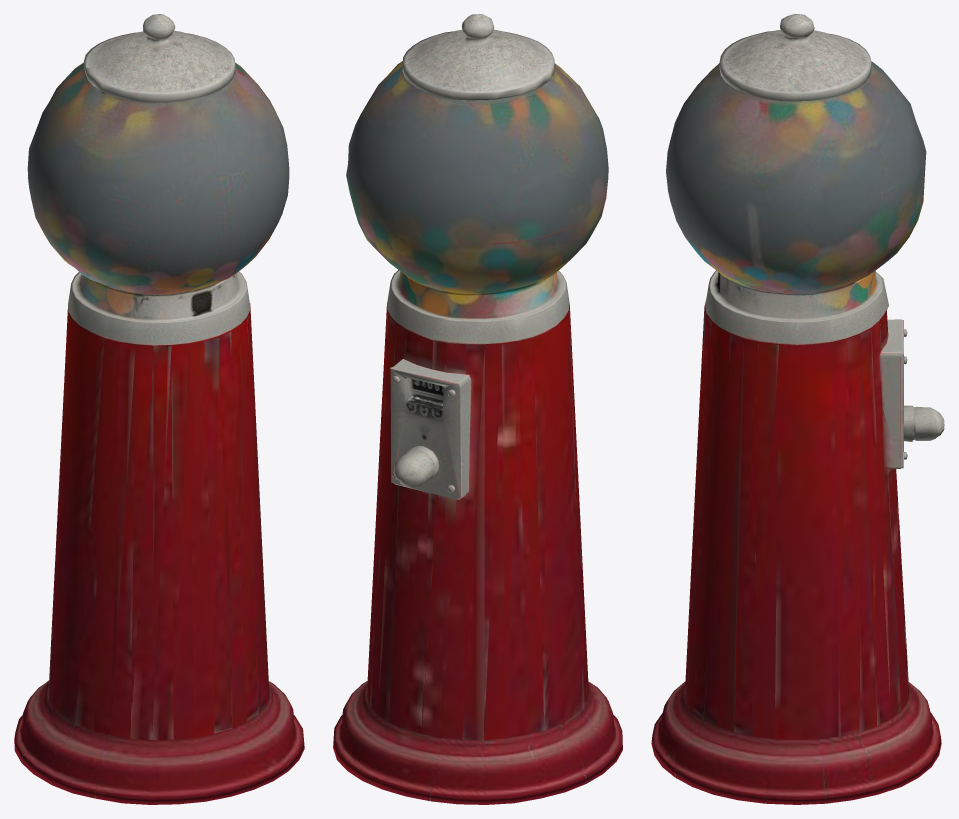
The model's file is office-gumball-machine.glb.
3 views of the same model, side by side, from view 1: azimuth 30°, elevation 25°; view 2: azimuth 150°, elevation 25°; view 3: azimuth 270°, elevation 25° (orthographic).
Visible parts, largest first — view 1: gumball-machine; view 2: gumball-machine; view 3: gumball-machine.
Part boxes in pixels (x1,y1,x2,y2): gumball-machine: [14, 14, 304, 804]; gumball-machine: [333, 14, 622, 804]; gumball-machine: [651, 14, 944, 804].
Size of the model in its own units: 0.4866 by 1.35 by 0.4921.
Materials: 1 (1 with a texture image).
